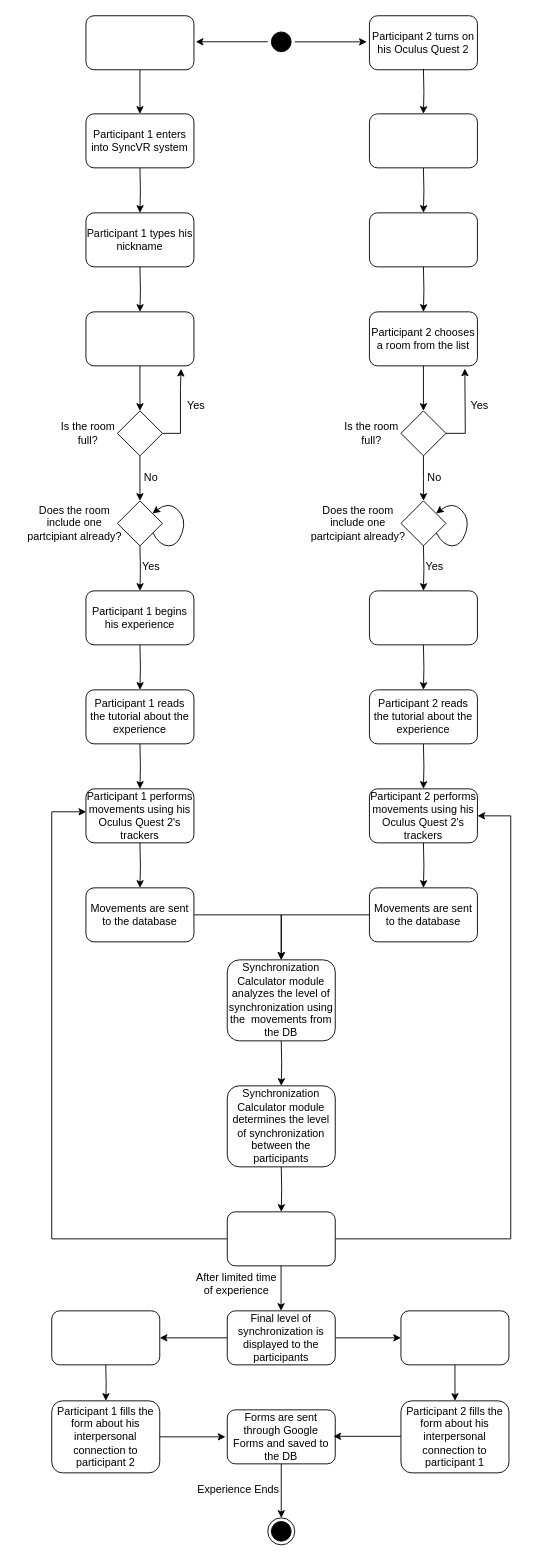
This 534x1561 diagram has some shape labels left out. The centre of each missing label's shape, as x and y in pixels:
"Interpersonal connection form's link is sent to the participant 1" belongs at [105,1337].
"Interpersonal connection form's link is sent to the participant 2" belongs at [454,1337].
"Level of synchronization is displayed to the participants" belongs at [280,1238].
"Participant 1 chooses a room from the list" belongs at [139,338].
"Participant 1 turns on his Oculus Quest 2" belongs at [139,42].
"Participant 2 begins his experience" belongs at [423,617].
"Participant 2 enters into SyncVR system" belongs at [423,140].
"Participant 2 types his nickname" belongs at [423,239].
